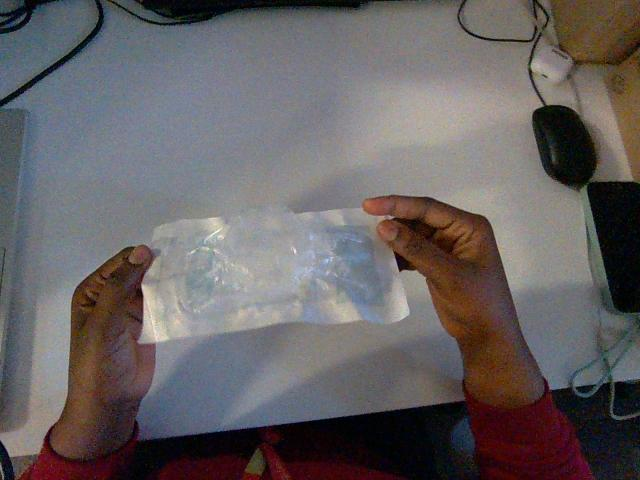gallipot: (140, 207, 408, 342)
